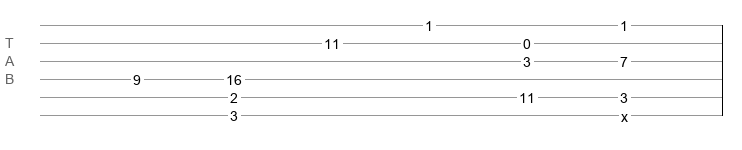0: (523, 36, 531, 46)
1: (425, 18, 433, 28), (620, 18, 628, 28)
11: (324, 36, 340, 46), (519, 90, 535, 100)
16: (226, 72, 242, 82)
2: (230, 90, 238, 100)
3: (230, 108, 238, 118), (523, 54, 531, 64), (620, 90, 628, 100)
7: (620, 54, 628, 64)
9: (133, 72, 141, 82)
x: (621, 109, 628, 117)
